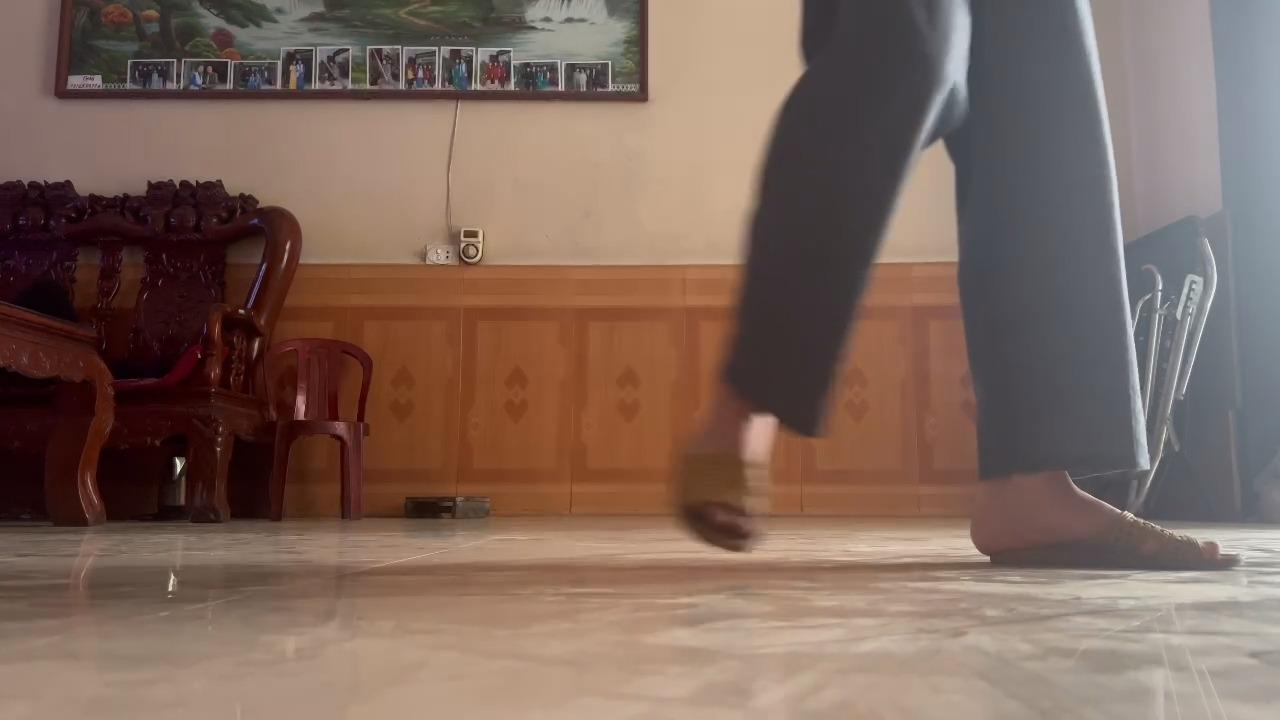no-boot: (960, 477, 1246, 578), (675, 407, 788, 559)
